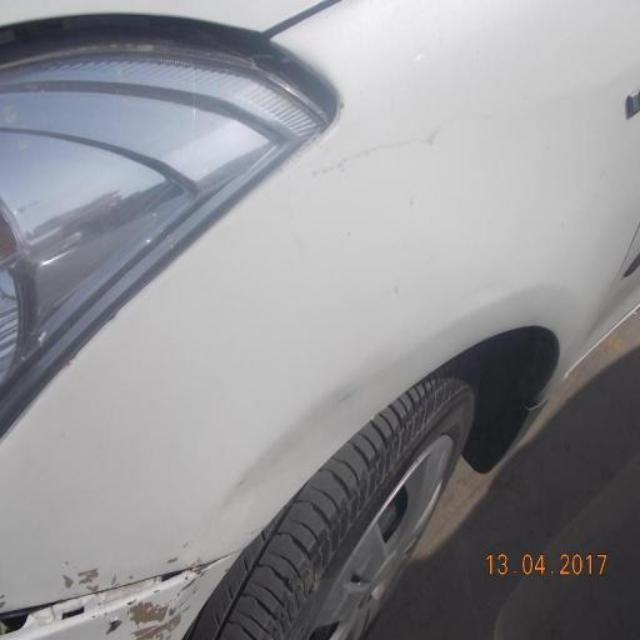crack: (311, 123, 447, 192)
rub: (126, 592, 192, 640), (58, 562, 104, 598), (165, 555, 215, 584)
